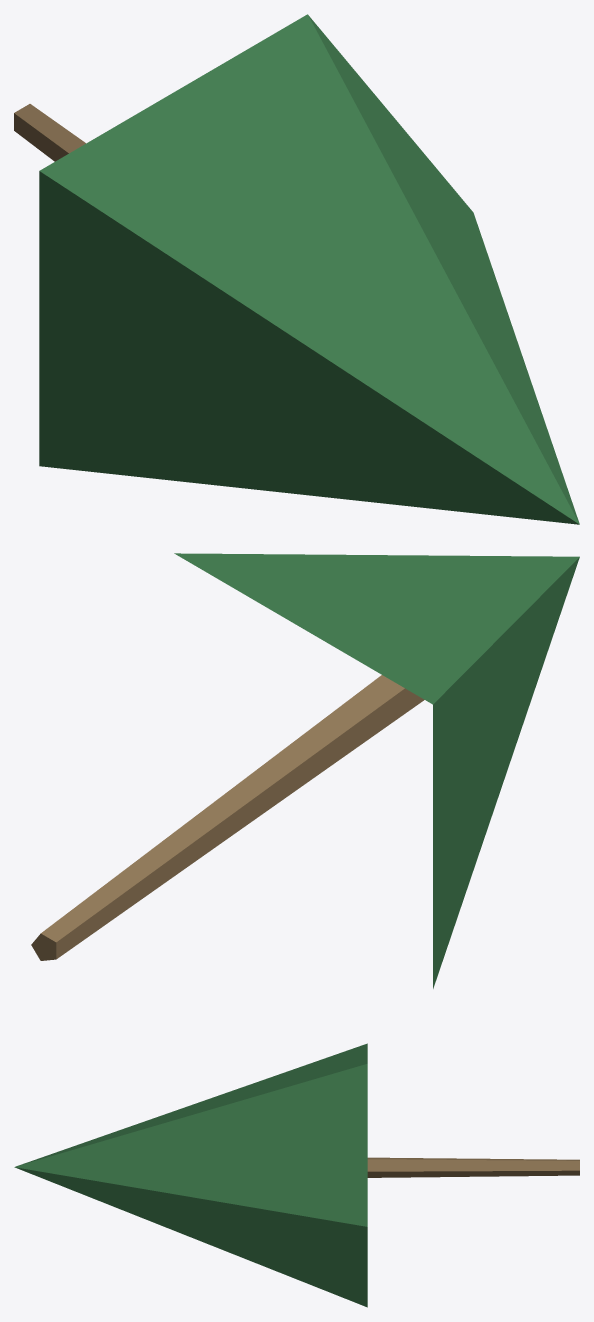
The model's file is pine_tree_low.glb.
3 renders of one model, top to bottom at view 1: azimuth 30°, elevation 25°; view 2: azimuth 150°, elevation 25°; view 3: azimuth 270°, elevation 25°, orthographic. The views are drawn at different scales.
Visible parts, largest first — view 1: geometry_0; view 2: geometry_0; view 3: geometry_0.
Part boxes in pixels (x1,y1,x2,y2): geometry_0: (14, 14, 579, 524); geometry_0: (31, 553, 579, 988); geometry_0: (14, 1043, 579, 1307).
Bounding box in the file's own units: 1.81 × 1.9 × 4.
